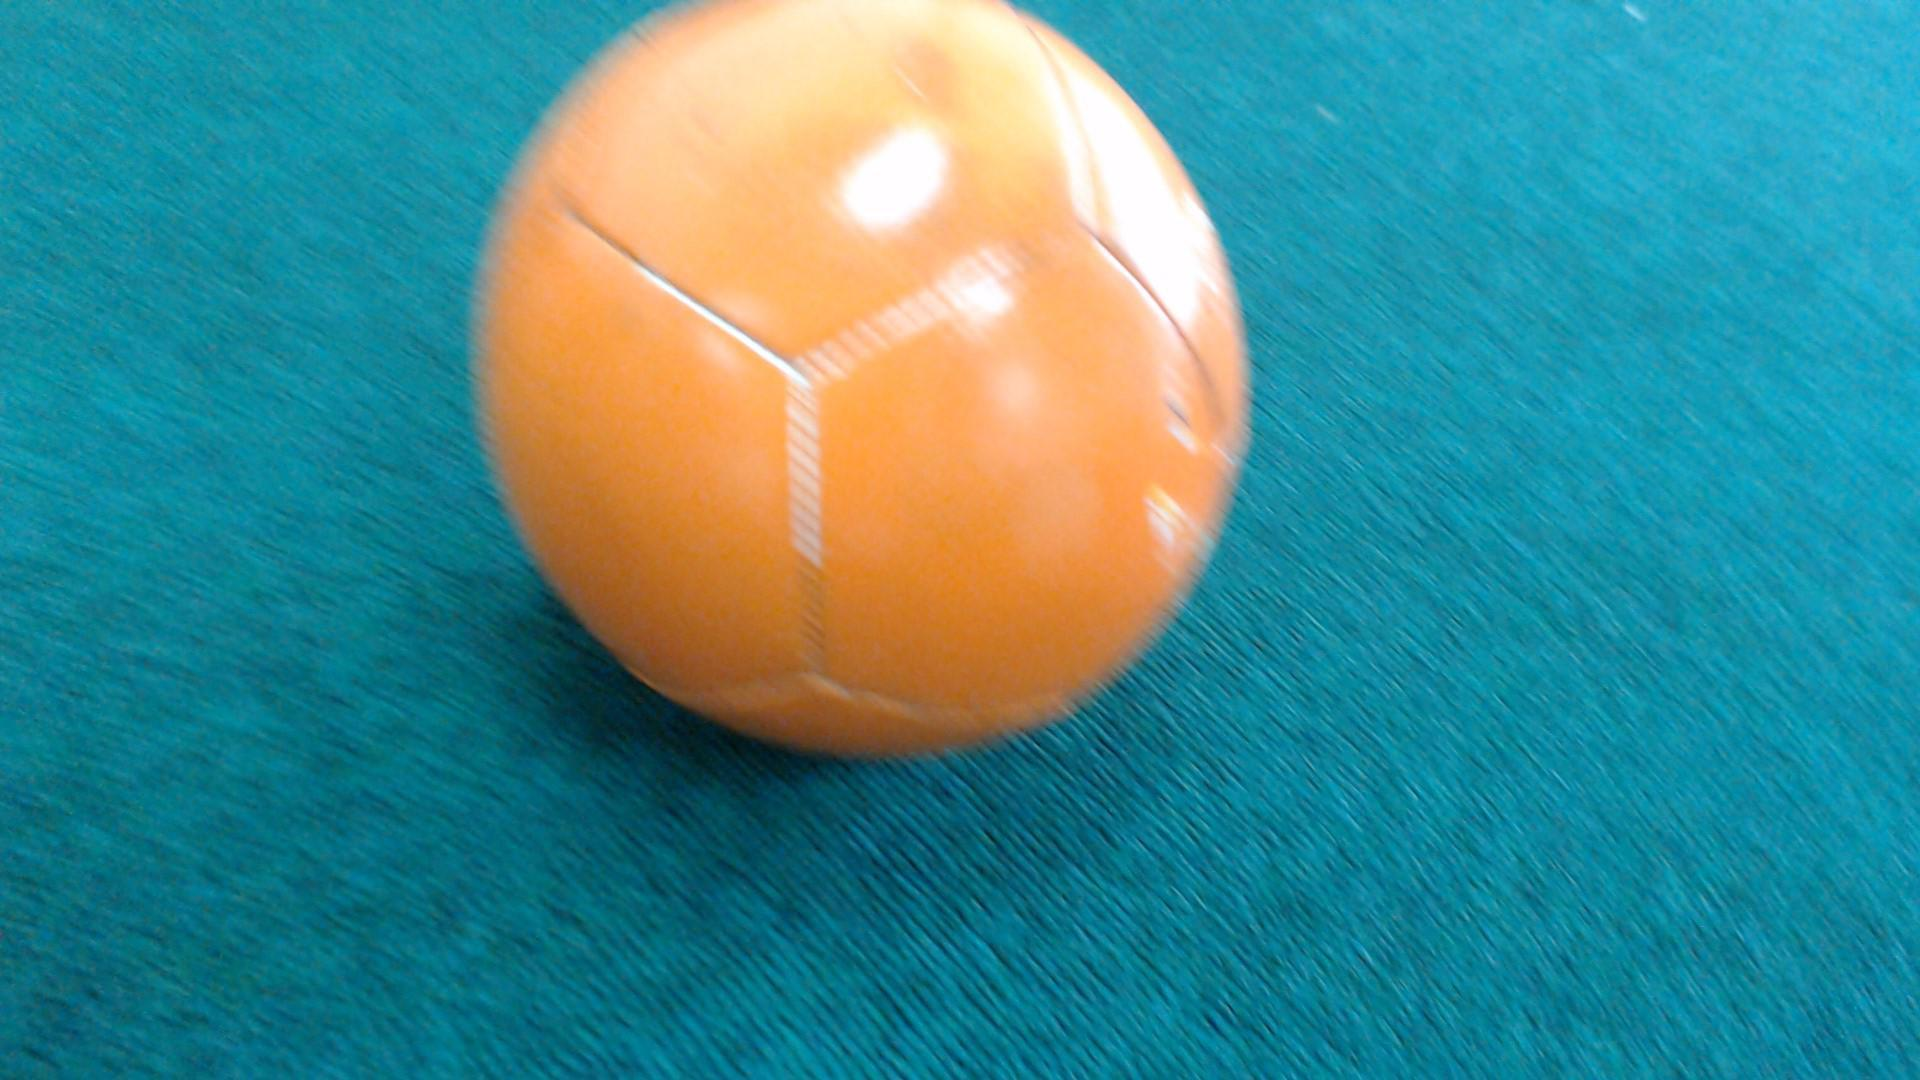bola: (421, 0, 1320, 757)
